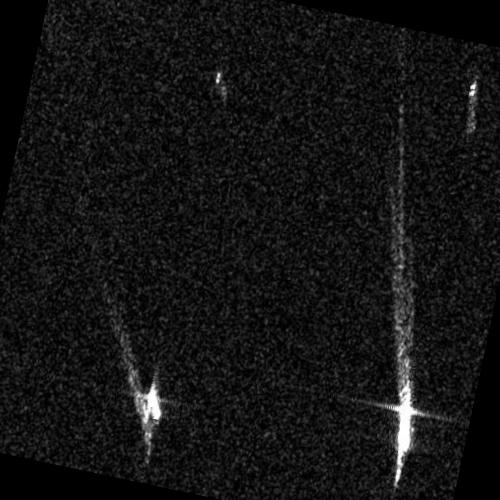ship: (395, 377, 413, 456), (465, 79, 478, 131), (146, 382, 161, 423), (214, 71, 221, 85)
